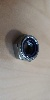Nut: (11, 31, 43, 65)
